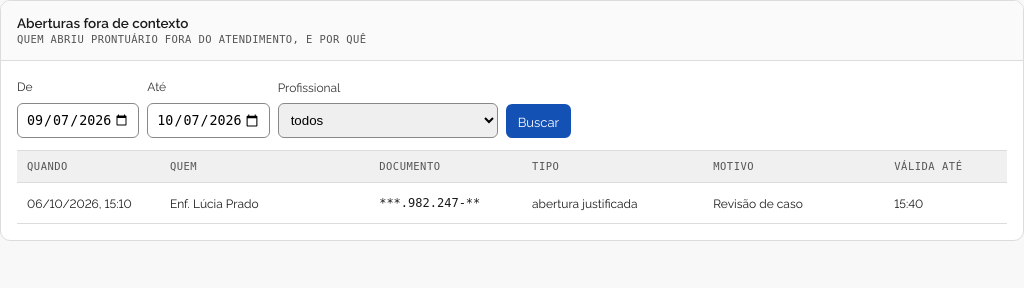
Test case: OpeningsReport › período invertido não busca
Expected: the table is shown, top-left (17, 150), bottom-right (1007, 224)
Type "2026-10-08" into the date field labelled "De".
click(78, 120); type("2026-10-08")  # box top-left (17, 103), bottom-right (139, 138)
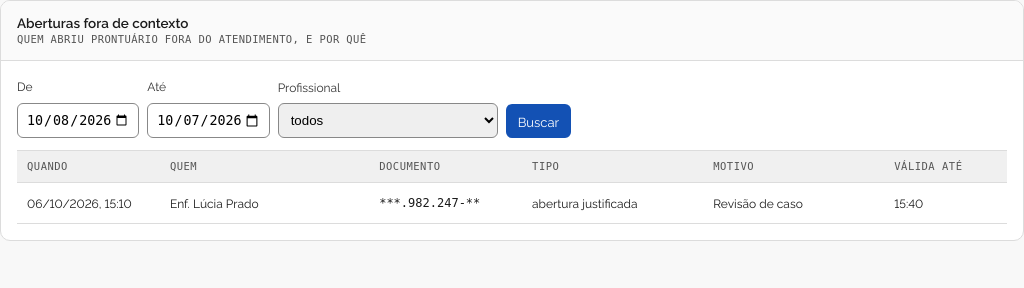
Click the button "Buscar".
click(538, 121)  # box top-left (506, 104), bottom-right (571, 138)
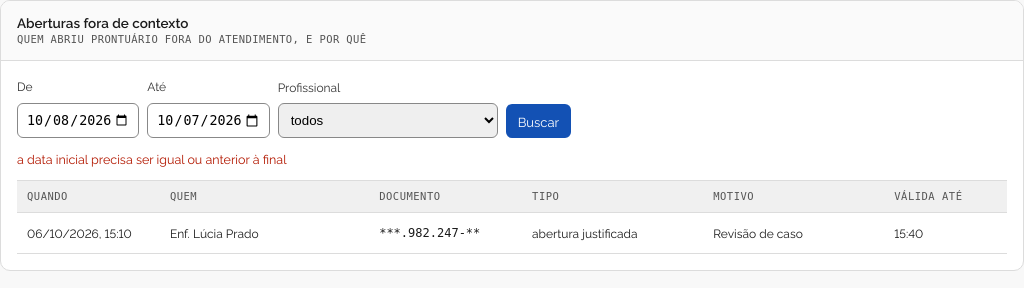
Expected: the message reads "a data inicial precisa ser igual ou anterior à final", top-left (17, 150), bottom-right (286, 167)
